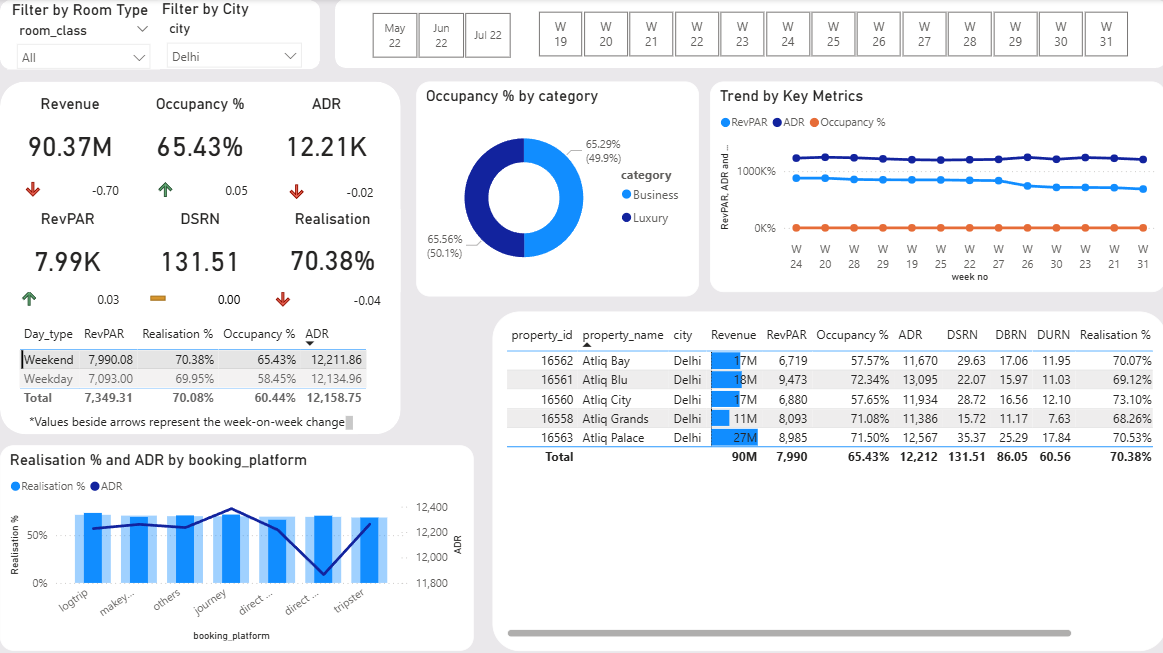

What the dashboard file says about the page in this screenshot:
{"tool":"powerbi","page":{"name":"Page 1","canvas":[1280,720],"ordinal":0},"visuals":[{"type":"shape","box":[0,90,440,387.1],"z":0},{"type":"tableEx","fields":{"Values":["key_measures.Realisation WoW change %"]},"box":[291.4,291.4,147.1,68.6],"z":1000},{"type":"tableEx","fields":{"Values":["key_measures.DSRN WoW change %"]},"box":[154.3,290,130,70],"z":2000},{"type":"tableEx","fields":{"Values":["key_measures.Revpar WoW change %"]},"box":[12.9,290,138.6,61.4],"z":3000},{"type":"tableEx","fields":{"Values":["key_measures.ADR WoW change %"]},"box":[305.7,172.9,124.3,55.7],"z":4000},{"type":"tableEx","fields":{"Values":["key_measures.Occupancy WoW change %"]},"box":[161.4,170,130,58.6],"z":5000},{"type":"tableEx","fields":{"Values":["key_measures.Revenue WoW change %"]},"box":[17.1,170,134.3,71.4],"z":6000},{"type":"shape","box":[367.1,0,912.9,75.7],"z":7000},{"type":"shape","box":[0,1.4,351.4,75.7],"z":8000},{"type":"tableEx","fields":{"Values":["dim_hotels.property_id","dim_hotels.property_name","dim_hotels.city","key_measures.Revenue","key_measures.RevPAR","key_measures.Occupancy %","key_measures.ADR","key_measures.DSRN","key_measures.DBRN","key_measures.DURN","key_measures.Realisation %","key_measures.Cancellation %"]},"box":[540,342.9,740,372.9],"z":9000},{"type":"slicer","title":"Filter by City","fields":{"Values":["dim_hotels.city"]},"box":[172.9,0,168.6,75.7],"z":10000},{"type":"slicer","title":"Filter by Room Type","fields":{"Values":["dim_rooms.room_class"]},"box":[8.6,1.4,167.1,75.7],"z":11000},{"type":"slicer","fields":{"Values":["dim_date.mmm yy"]},"box":[382.9,8.6,201.4,62.9],"z":12000},{"type":"slicer","fields":{"Values":["dim_date.week no"]},"box":[565.7,7.1,697.1,62.9],"z":13000},{"type":"card","title":"Revenue","fields":{"Values":["key_measures.Revenue"]},"box":[2.9,104.3,148.6,91.4],"z":14000},{"type":"donutChart","fields":{"Category":["dim_hotels.category"],"Y":["key_measures.Occupancy %"]},"box":[457.1,90,310,235.7],"z":15000},{"type":"card","title":"RevPAR","fields":{"Values":["key_measures.RevPAR"]},"box":[0,230,148.6,91.4],"z":16000},{"type":"card","title":"DSRN","fields":{"Values":["key_measures.DSRN"]},"box":[145.7,230,148.6,91.4],"z":17000},{"type":"card","title":"Occupancy %","fields":{"Values":["key_measures.Occupancy %"]},"box":[145.7,104.3,148.6,91.4],"z":18000},{"type":"card","title":"ADR","fields":{"Values":["key_measures.ADR"]},"box":[284.3,104.3,148.6,91.4],"z":19000},{"type":"card","title":"Realisation","fields":{"Values":["key_measures.Realisation %"]},"box":[291.4,230,148.6,91.4],"z":20000},{"type":"lineChart","title":"Trend by Key Metrics","fields":{"Category":["dim_date.week no"],"Y":["key_measures.RevPAR","key_measures.ADR","key_measures.Occupancy %"]},"box":[780,90,500,231.4],"z":21000},{"type":"lineStackedColumnComboChart","fields":{"Category":["fact_bookings.booking_platform"],"Y":["key_measures.Realisation %"],"Y2":["key_measures.ADR"]},"box":[0,490,520,225.7],"z":22000},{"type":"tableEx","fields":{"Values":["dim_date.Day_type","key_measures.RevPAR","key_measures.Realisation %","key_measures.Occupancy %","key_measures.ADR"]},"box":[15.7,351.4,394.3,105.7],"z":23000}]}

Visuals, with their boxes in screenshot pixels (x1, y1, x2, y2), scaled from the page's 1280x720 canvas onto the 1163x653 screenshot:
shape: [0, 82, 400, 433]
tableEx - key_measures.Realisation WoW change %: [265, 264, 398, 326]
tableEx - key_measures.DSRN WoW change %: [140, 263, 258, 326]
tableEx - key_measures.Revpar WoW change %: [12, 263, 138, 319]
tableEx - key_measures.ADR WoW change %: [278, 157, 391, 207]
tableEx - key_measures.Occupancy WoW change %: [147, 154, 265, 207]
tableEx - key_measures.Revenue WoW change %: [16, 154, 138, 219]
shape: [334, 0, 1162, 69]
shape: [0, 1, 319, 70]
tableEx - dim_hotels.property_id x dim_hotels.property_name: [491, 311, 1162, 649]
"Filter by City" slicer: [157, 0, 310, 69]
"Filter by Room Type" slicer: [8, 1, 160, 70]
slicer - dim_date.mmm yy: [348, 8, 531, 65]
slicer - dim_date.week no: [514, 6, 1147, 63]
"Revenue" card: [3, 95, 138, 177]
donutChart - dim_hotels.category x key_measures.Occupancy %: [415, 82, 697, 295]
"RevPAR" card: [0, 209, 135, 291]
"DSRN" card: [132, 209, 267, 291]
"Occupancy %" card: [132, 95, 267, 177]
"ADR" card: [258, 95, 393, 177]
"Realisation" card: [265, 209, 400, 291]
"Trend by Key Metrics" lineChart: [709, 82, 1162, 291]
lineStackedColumnComboChart - fact_bookings.booking_platform x key_measures.Realisation %: [0, 444, 472, 649]
tableEx - dim_date.Day_type x key_measures.RevPAR: [14, 319, 373, 415]
